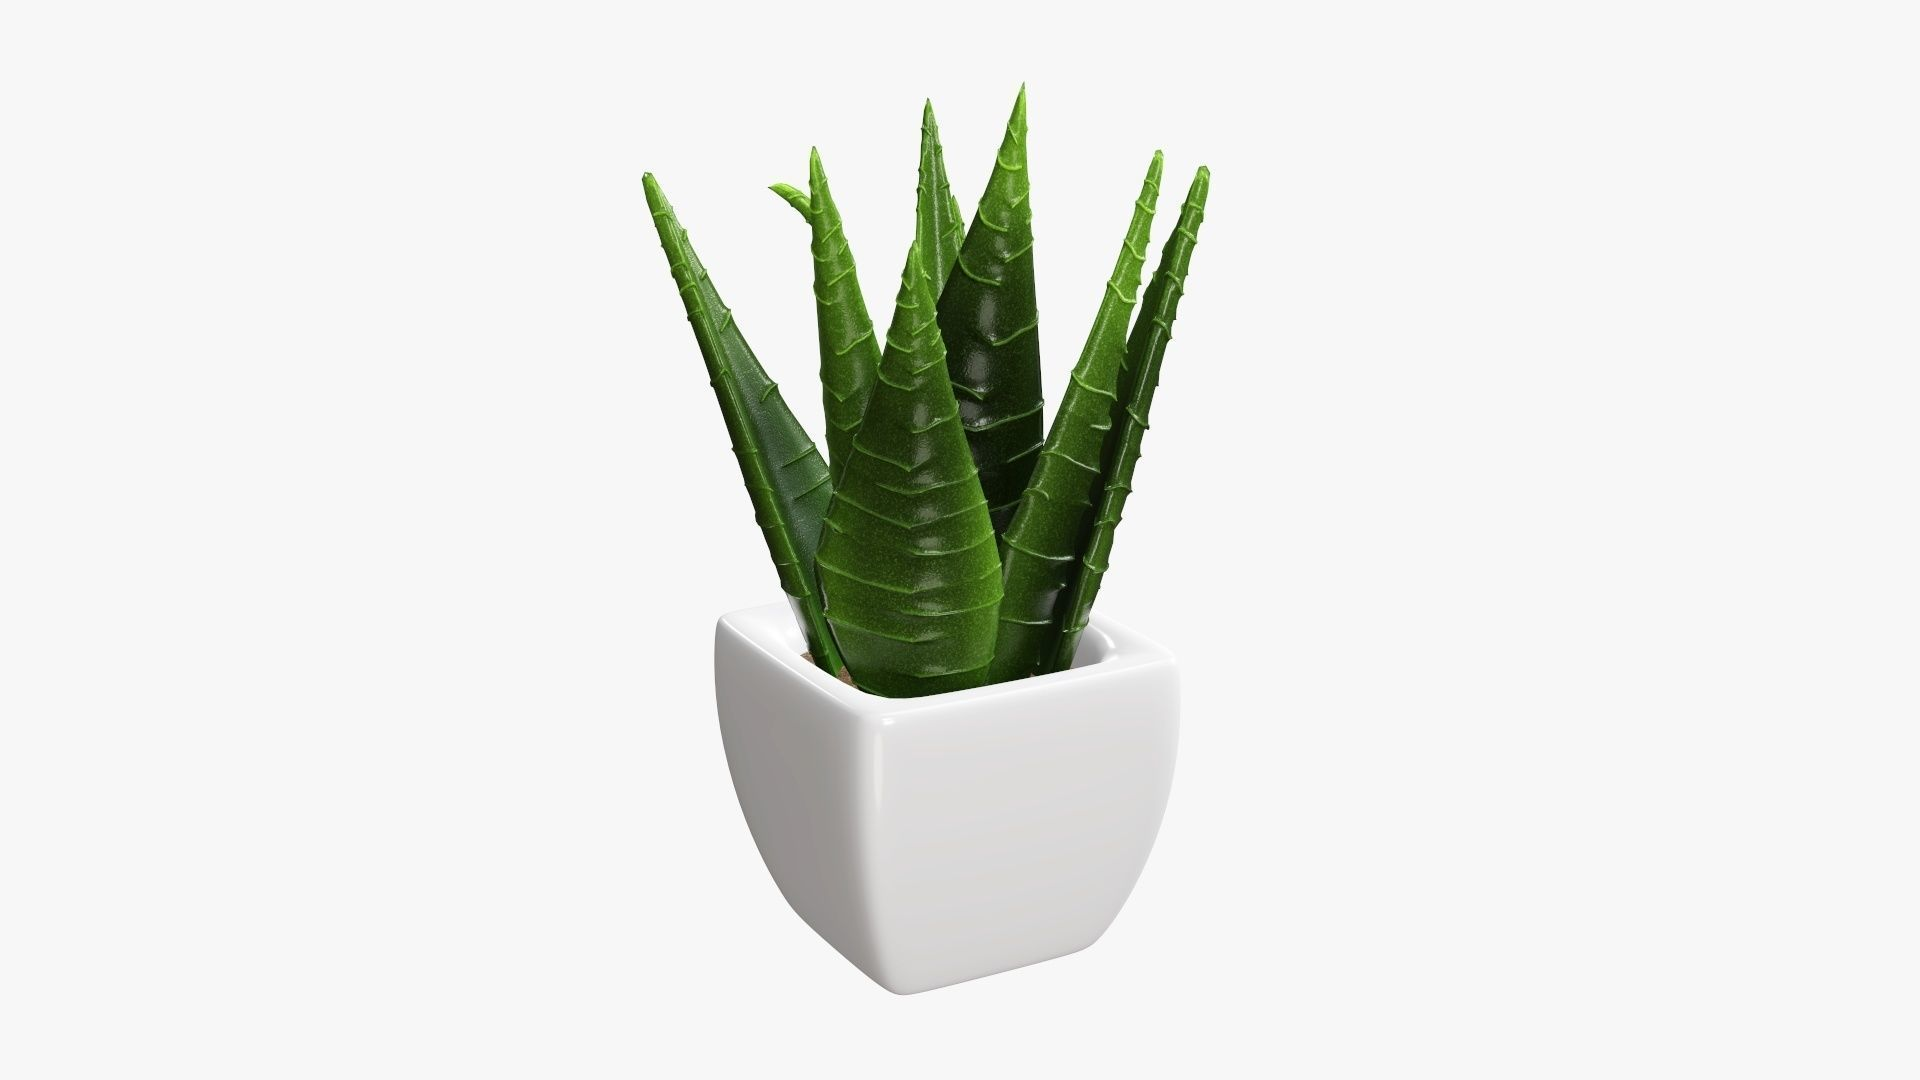tanaman: (613, 87, 1255, 1004)
